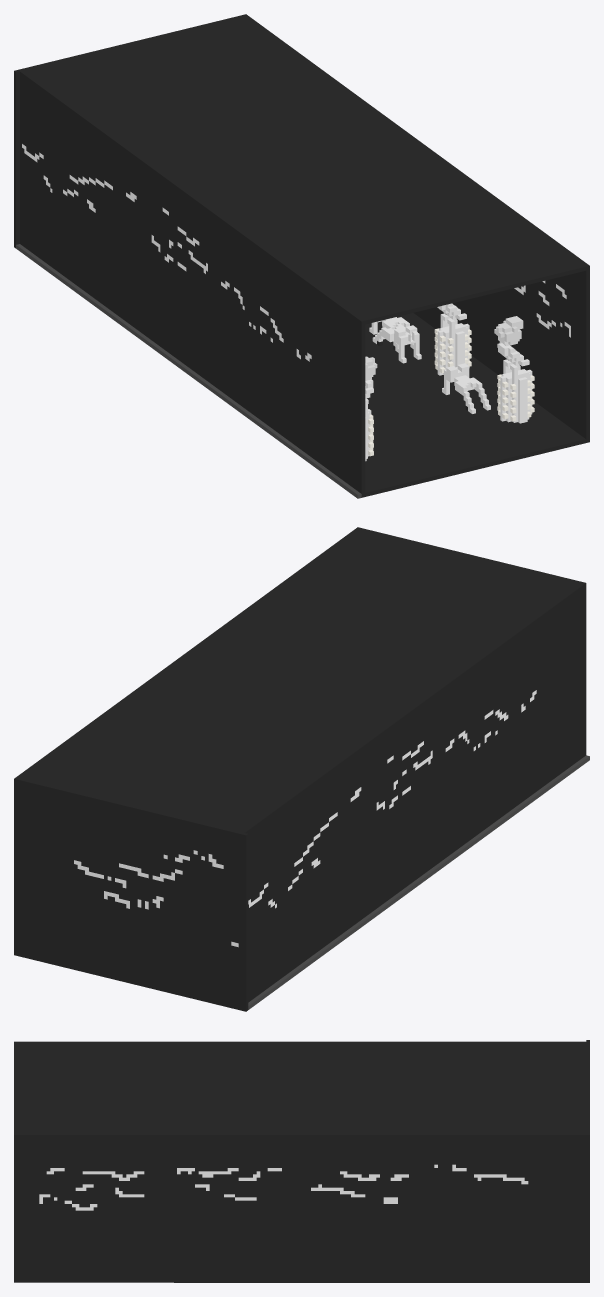
Rendered from orange.glb.
The picture shows the model from 3 angles, top to bottom: view 1: azimuth 30°, elevation 25°; view 2: azimuth 150°, elevation 25°; view 3: azimuth 270°, elevation 25°; orthographic projection. The views are drawn at different scales.
Visible parts, largest first — view 1: Object_2; view 2: Object_2; view 3: Object_2.
Part boxes in pixels (<box>): Object_2: <box>14,14,589,498</box>; Object_2: <box>14,527,589,1011</box>; Object_2: <box>14,1040,589,1282</box>.
Size of the model in its own units: 6.2 by 4.5 by 15.9.
1 material, 1 textured.
